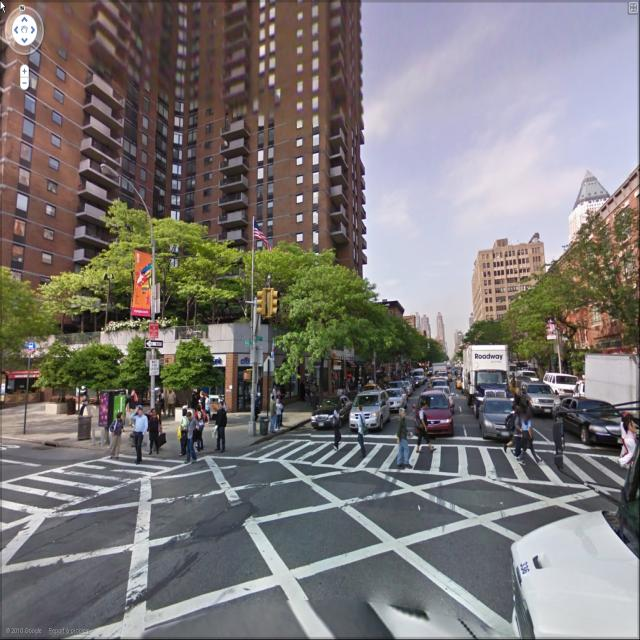b_1: (14, 1, 368, 260), (458, 216, 547, 319), (567, 166, 616, 239)
b_2: (16, 228, 406, 419)
